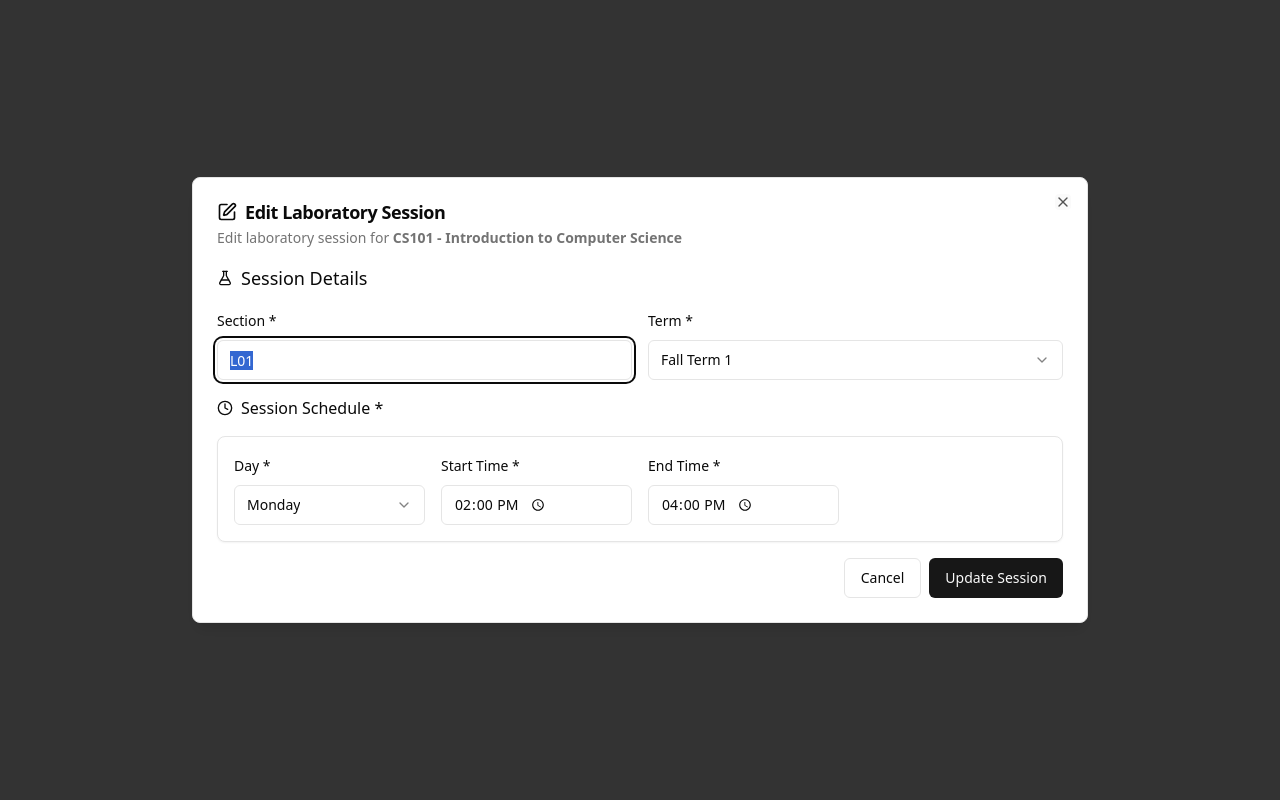
Test: EditSessionModal › validates time slot fields
// Clear start time
Clear the time field showing "14:00" below "Start Time *": [536, 505] box [441, 485, 632, 525]
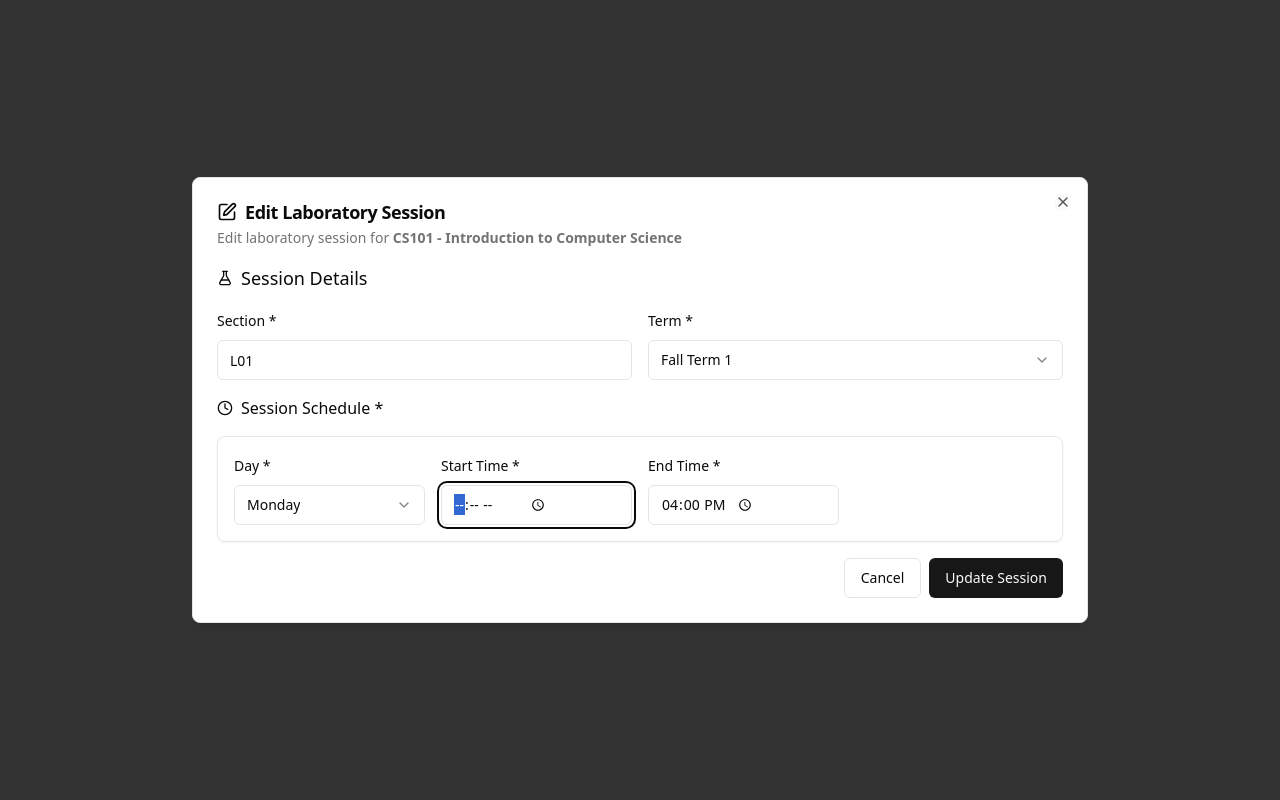
Click the button "Update Session": [996, 578] box [929, 558, 1063, 598]
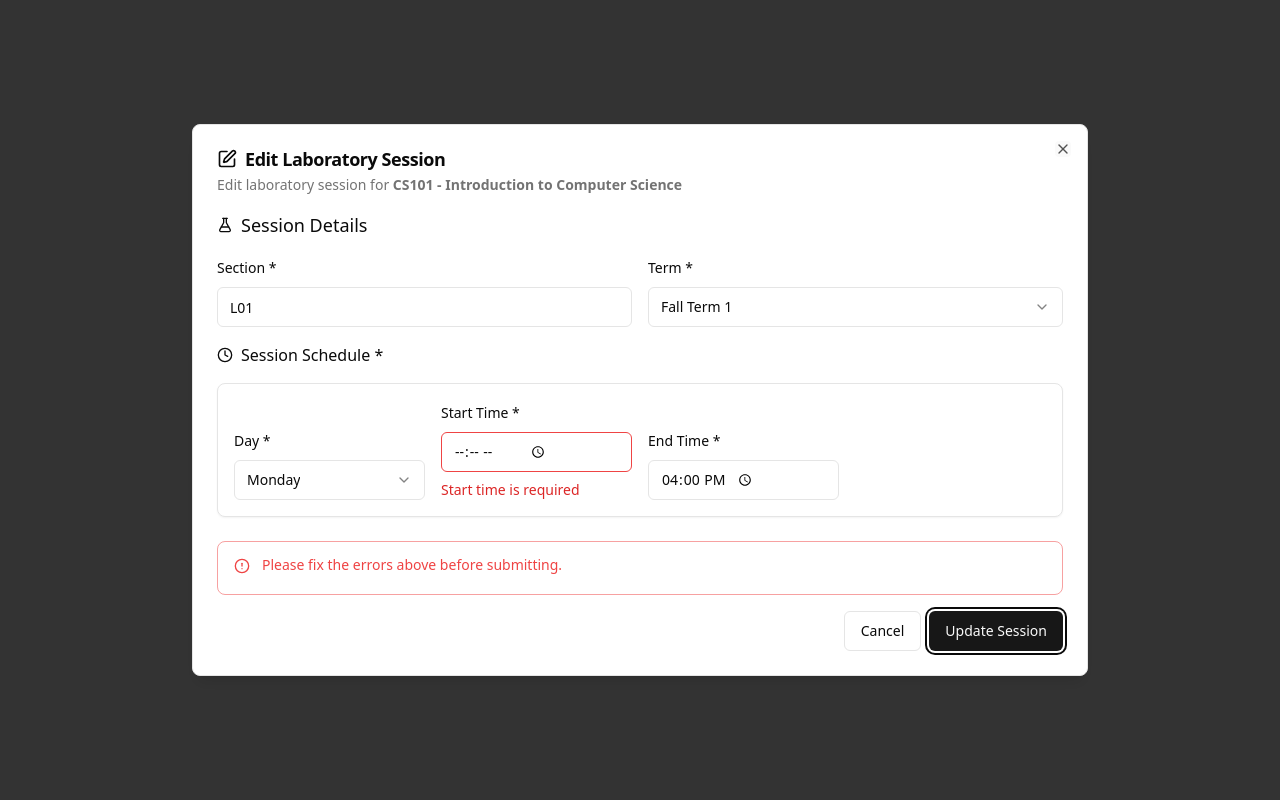
Result: the text "Start time is required" is shown at [441, 480, 580, 499]
